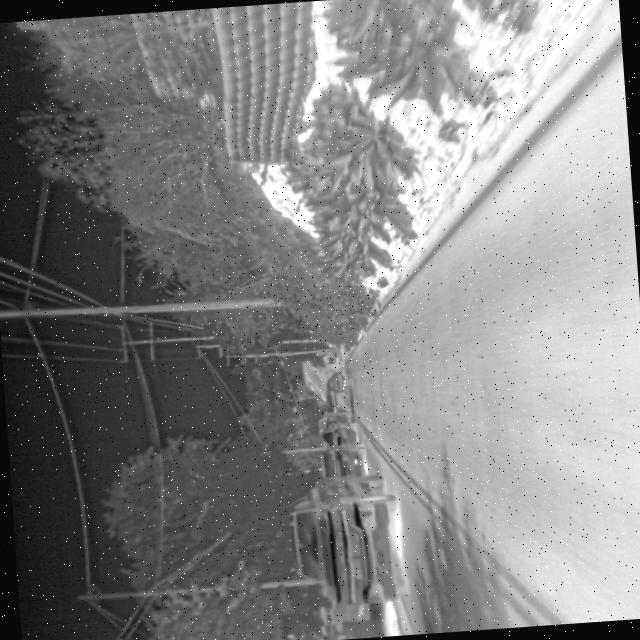Vehicle: (282, 471, 403, 612), (318, 438, 372, 481)
